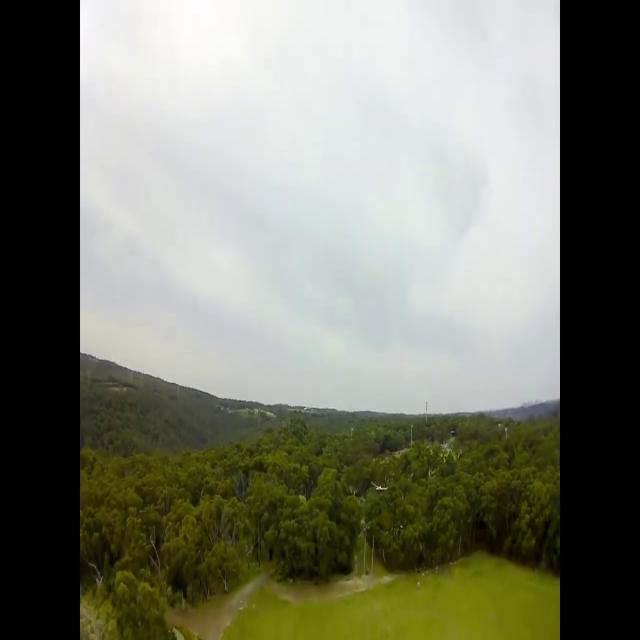iha: (372, 484, 389, 490)
